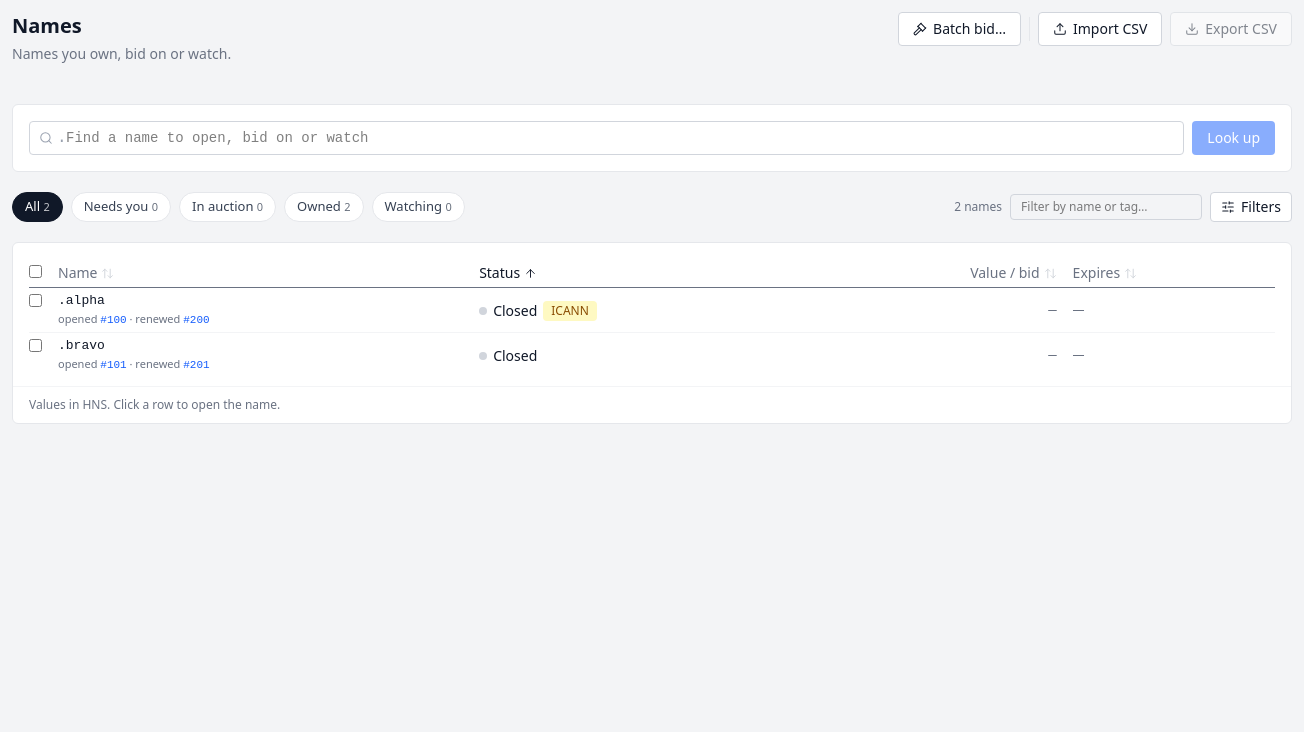
Test: NamesView — batch reveal/redeem/finalize › reveal button is disabled when any selected name isn't eligible
expect the text ".alpha" is shown: met, box [58,292,105,311]
expect the text ".bravo" is shown: met, box [58,337,105,356]
Click the checkbox named "Select alpha": (36, 300) [29,294,42,307]
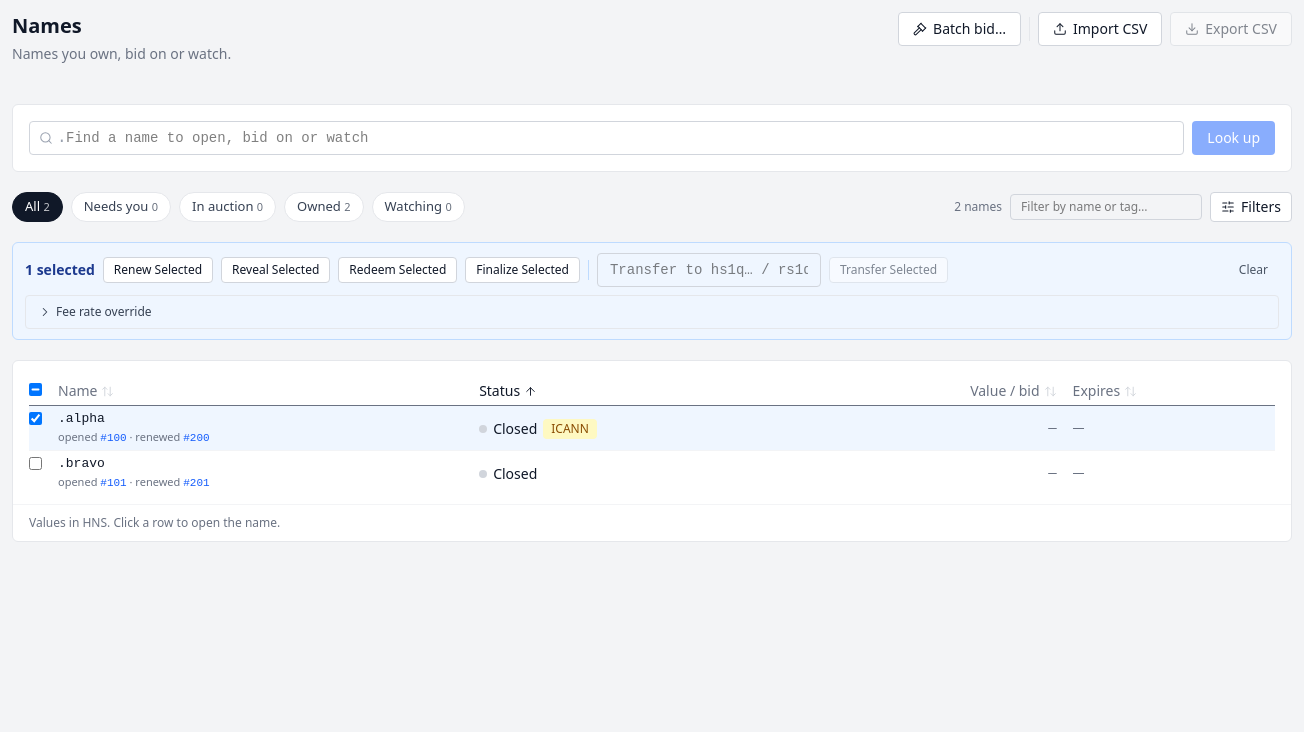
Click the checkbox named "Select bravo": (36, 464) [29,457,42,470]
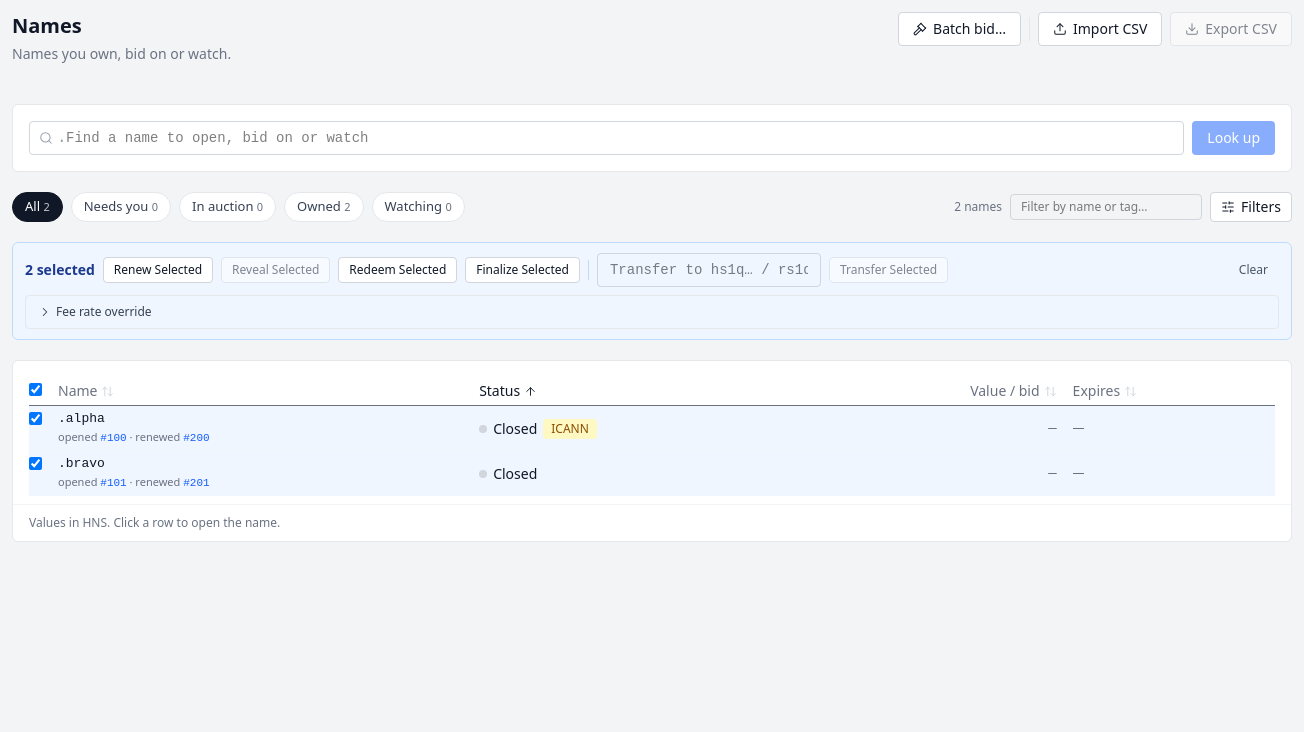
expect the button with test id "batch-reveal-btn" is disabled: met, box [221,257,330,283]
